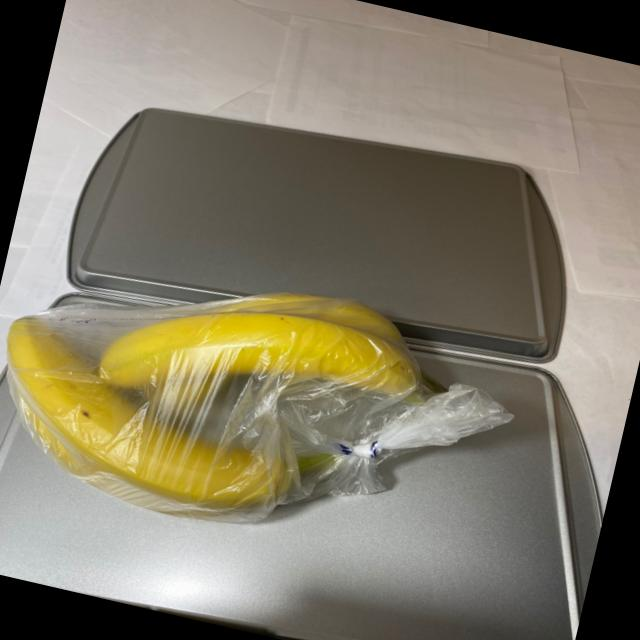banana: (0, 224, 474, 578)
